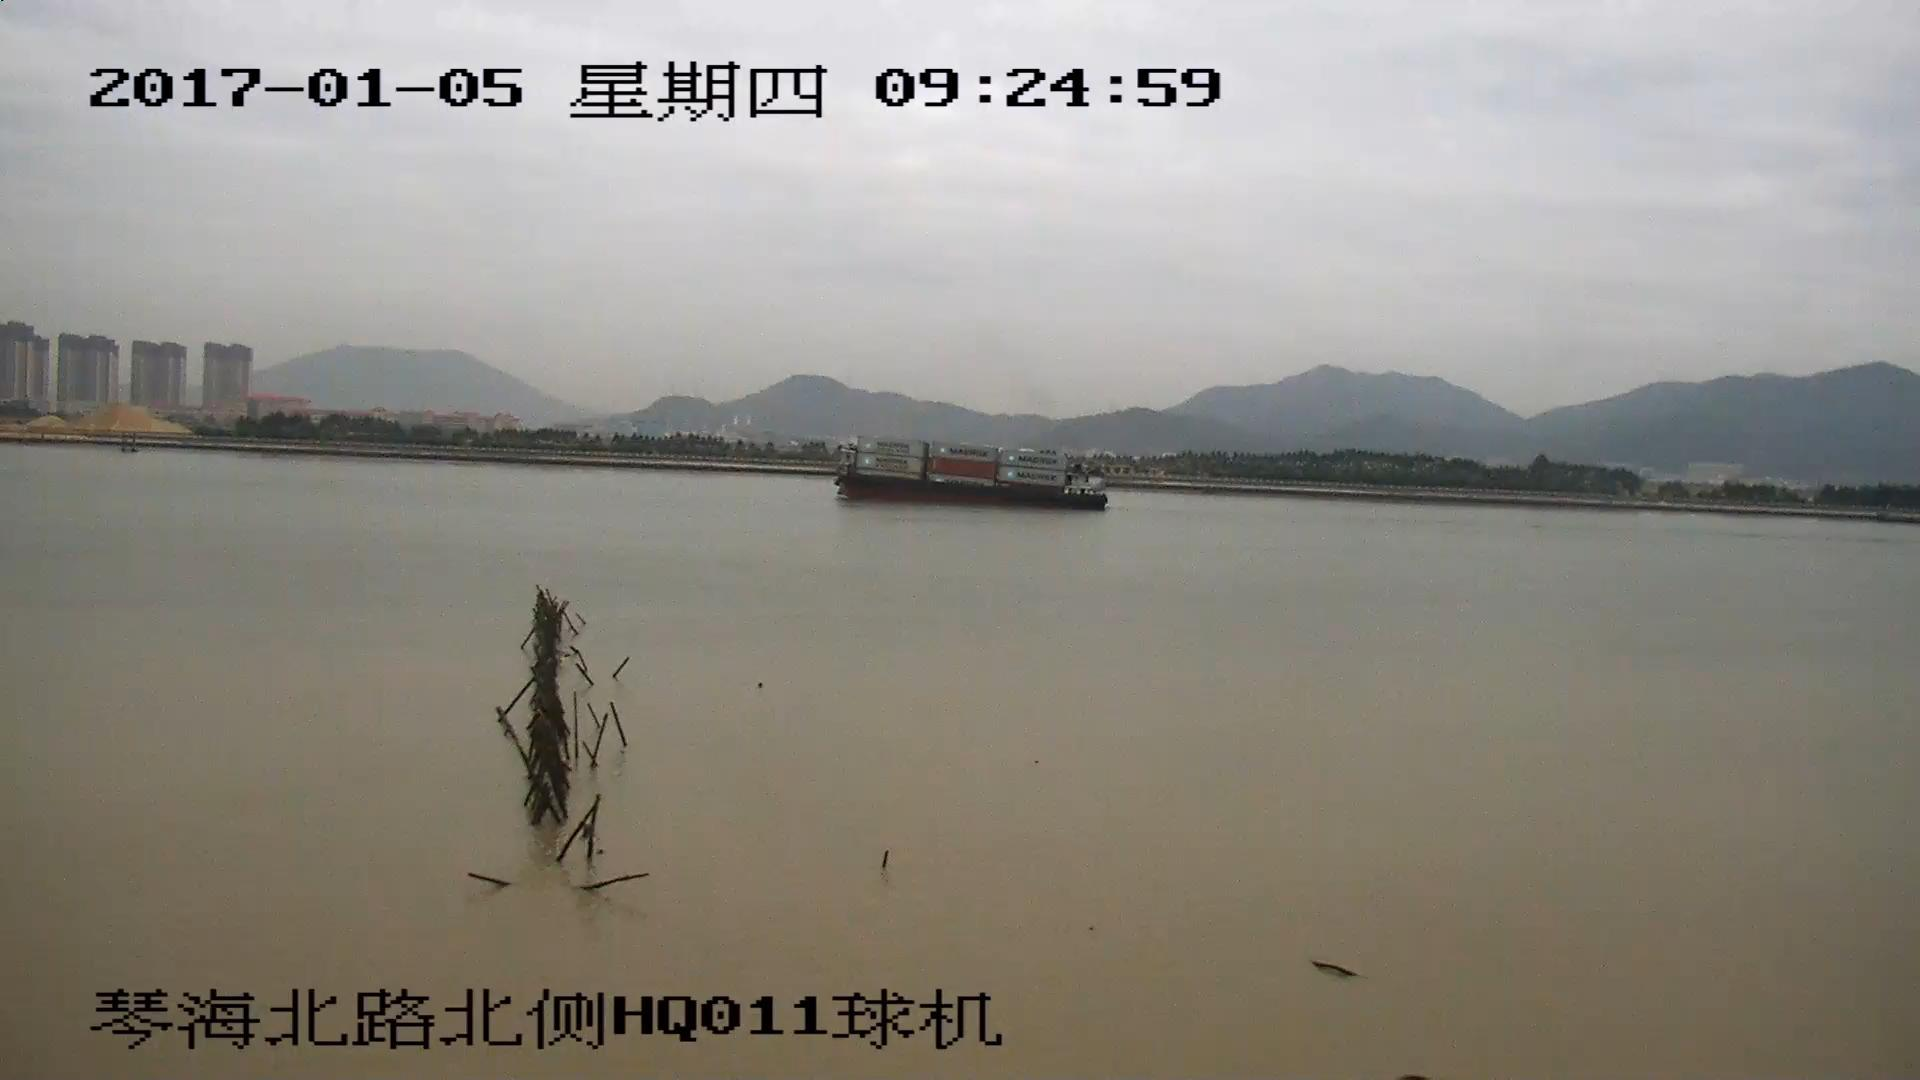Ship: (829, 438, 1109, 508)
